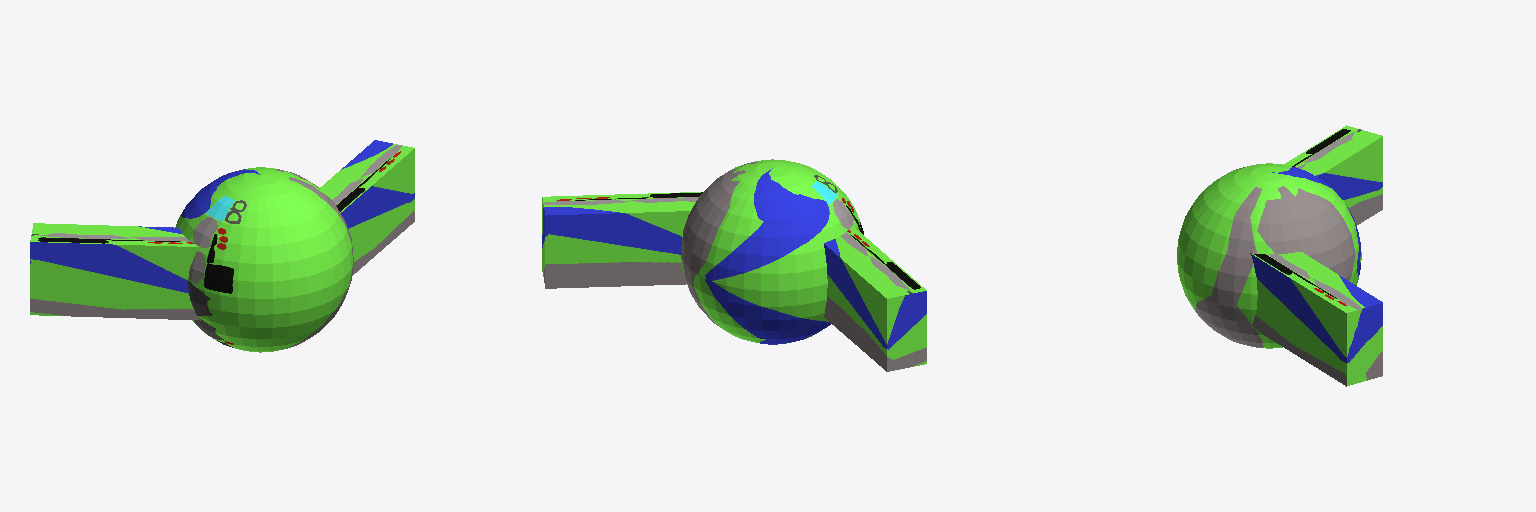
3 views of the same model, side by side, from view 1: azimuth 30°, elevation 25°; view 2: azimuth 150°, elevation 25°; view 3: azimuth 270°, elevation 25° (orthographic).
Parts seen in each view (by area): view 1: player; view 2: player; view 3: player.
Part boxes in pixels (x1,y1,x2,y2): player: (30, 140, 414, 352); player: (542, 159, 926, 371); player: (1177, 125, 1382, 386).
Size of the model in its own units: 4.79 by 2 by 2.23.
1 materials, 1 textured.